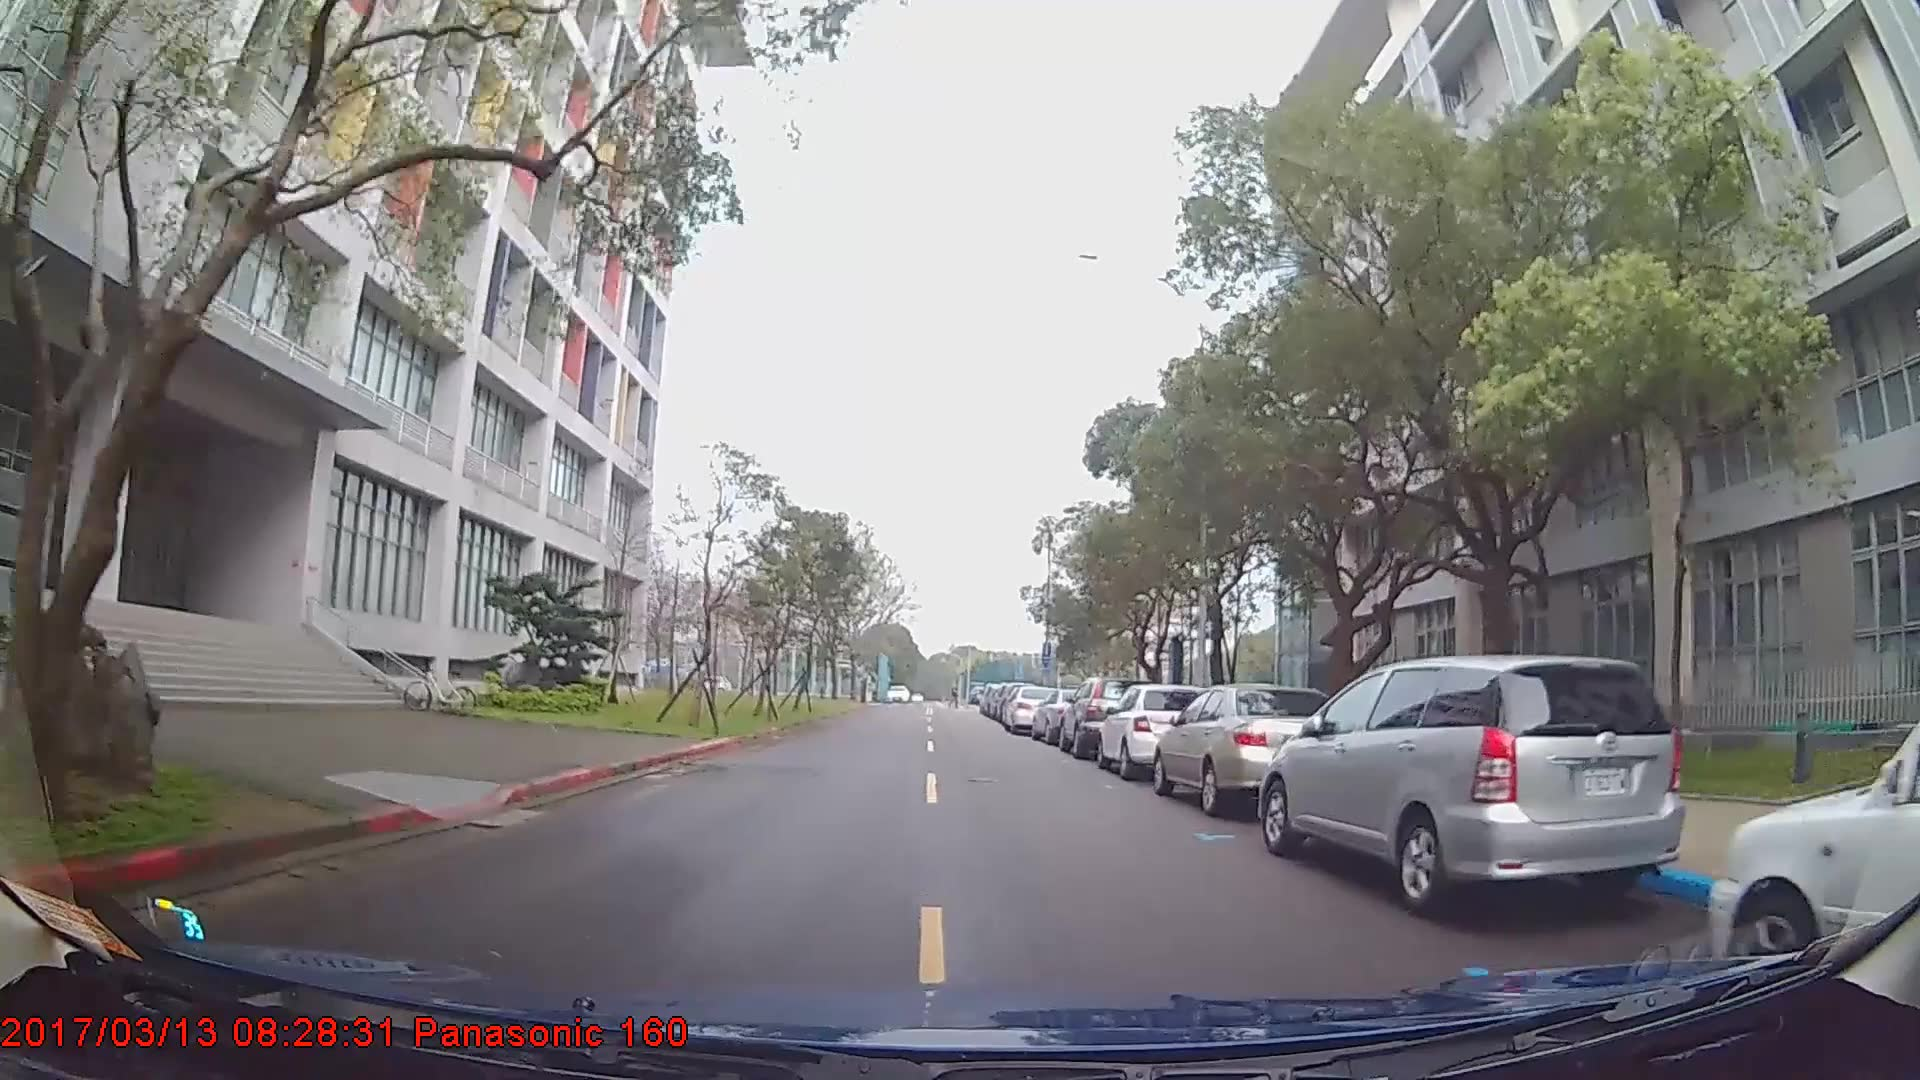vehicle: (1255, 651, 1685, 913), (1708, 705, 1919, 986), (1153, 680, 1345, 812), (1096, 680, 1207, 778), (1056, 674, 1149, 756), (1000, 682, 1060, 735)
